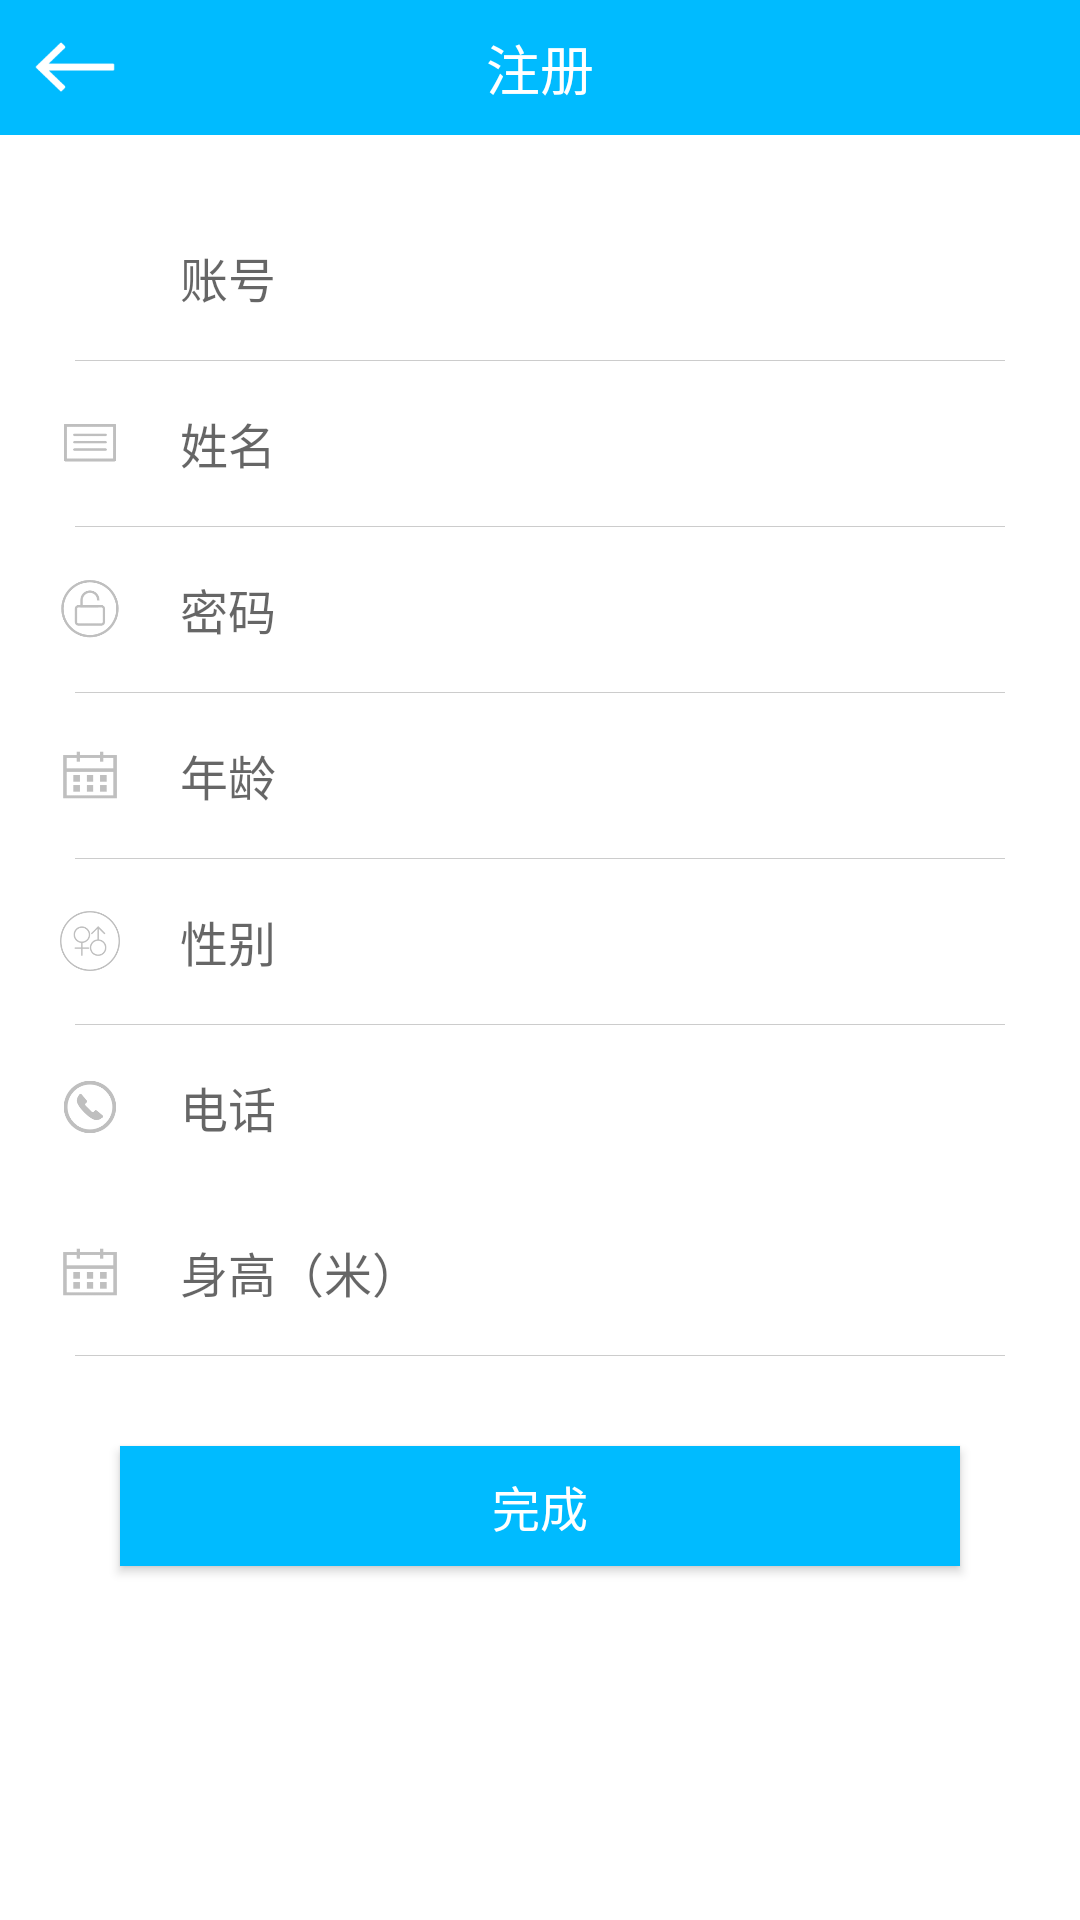

Where icons sit on this 1080×1920 app screen, as (x1, y1, x2, y2):
dianhua: (64, 1081, 116, 1133)
mima: (61, 580, 119, 637)
riqi: (63, 752, 117, 798), (63, 1249, 117, 1295)
xingbie: (60, 911, 120, 971)
xingming: (64, 424, 116, 462)
zuojiantou: (35, 42, 115, 92)
